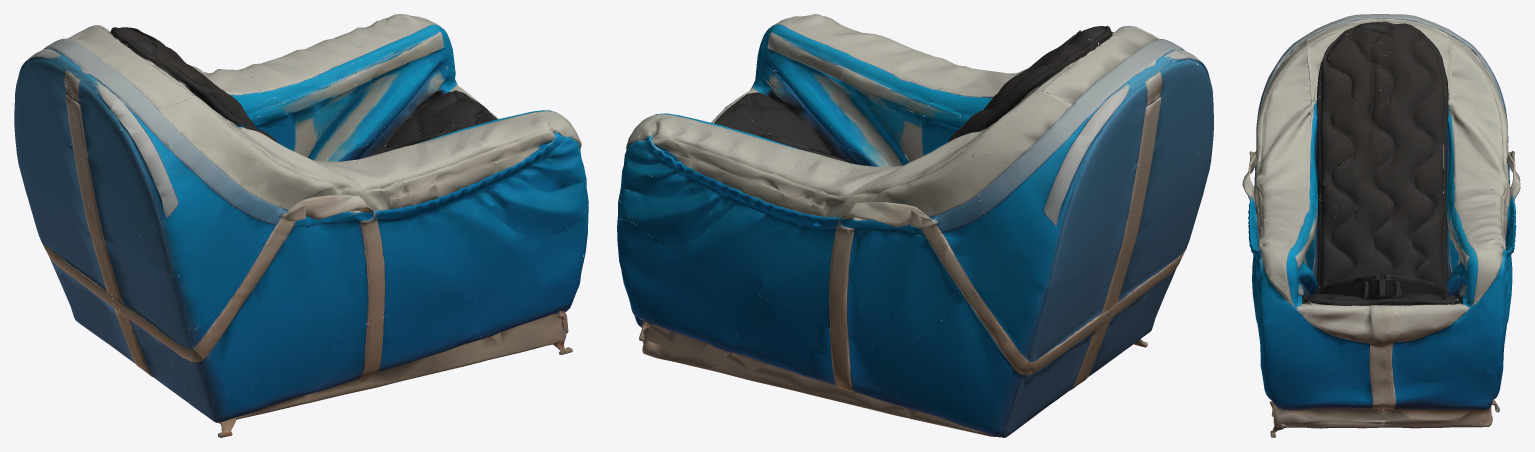
File: snooza-chair-web.glb
The picture shows the model from 3 angles, left to right: view 1: azimuth 30°, elevation 25°; view 2: azimuth 150°, elevation 25°; view 3: azimuth 270°, elevation 25°; orthographic projection. The views are drawn at different scales.
Visible parts, largest first — view 1: tripo_node_88fa44a7-8be6-476b-94eb-cf6c0daa7320; view 2: tripo_node_88fa44a7-8be6-476b-94eb-cf6c0daa7320; view 3: tripo_node_88fa44a7-8be6-476b-94eb-cf6c0daa7320.
Part boxes in pixels (x1,y1,x2,y2): tripo_node_88fa44a7-8be6-476b-94eb-cf6c0daa7320: [14, 14, 588, 437]; tripo_node_88fa44a7-8be6-476b-94eb-cf6c0daa7320: [617, 14, 1213, 437]; tripo_node_88fa44a7-8be6-476b-94eb-cf6c0daa7320: [1242, 14, 1520, 437].
Size of the model in its own units: 1 by 0.7438 by 0.6815.
1 material, 1 textured.
